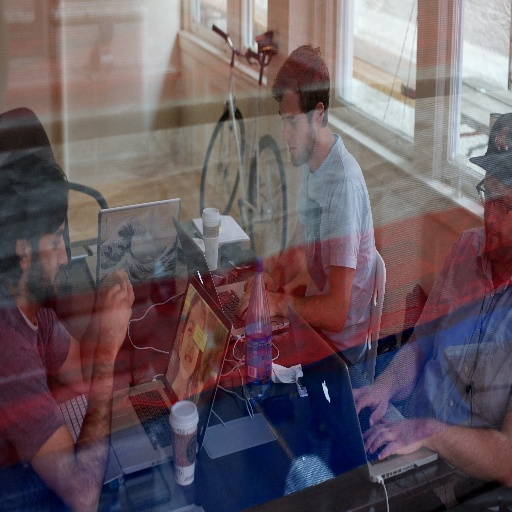hand: (92, 267, 135, 334), (361, 419, 423, 456), (350, 379, 390, 429), (233, 282, 277, 322), (243, 269, 277, 292)
